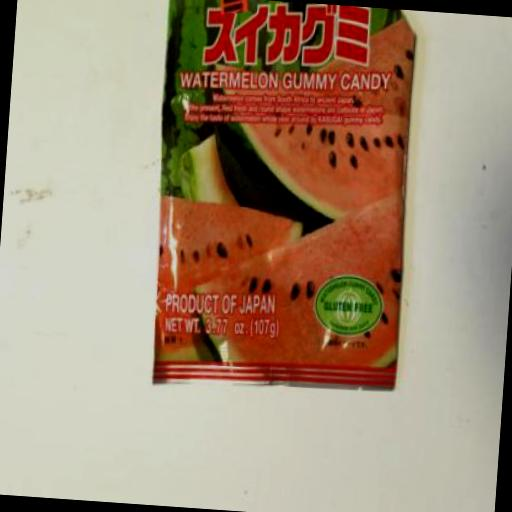plastic: (143, 0, 424, 398)
